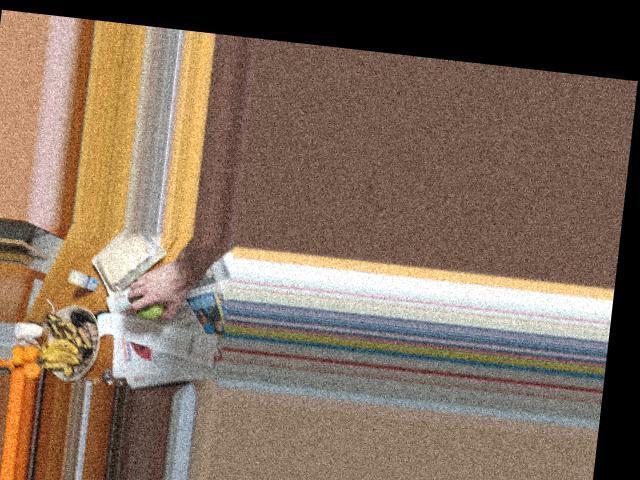apple: (130, 280, 173, 320)
